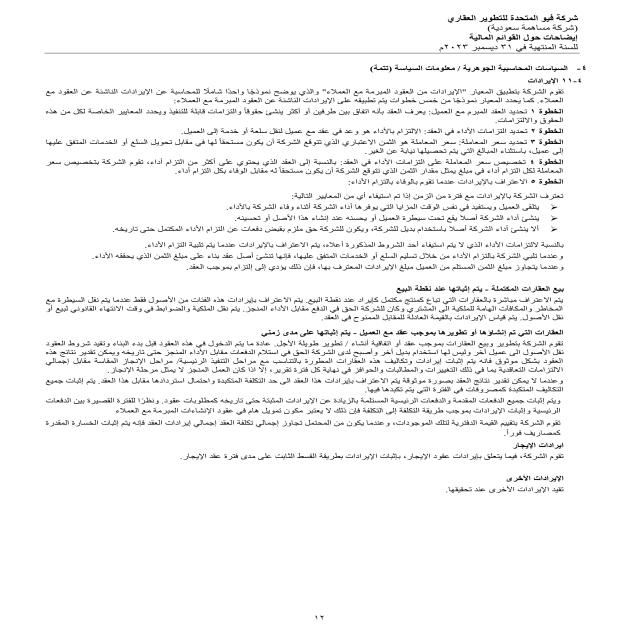notes: (462, 32, 586, 40)
text: (20, 65, 594, 497)
